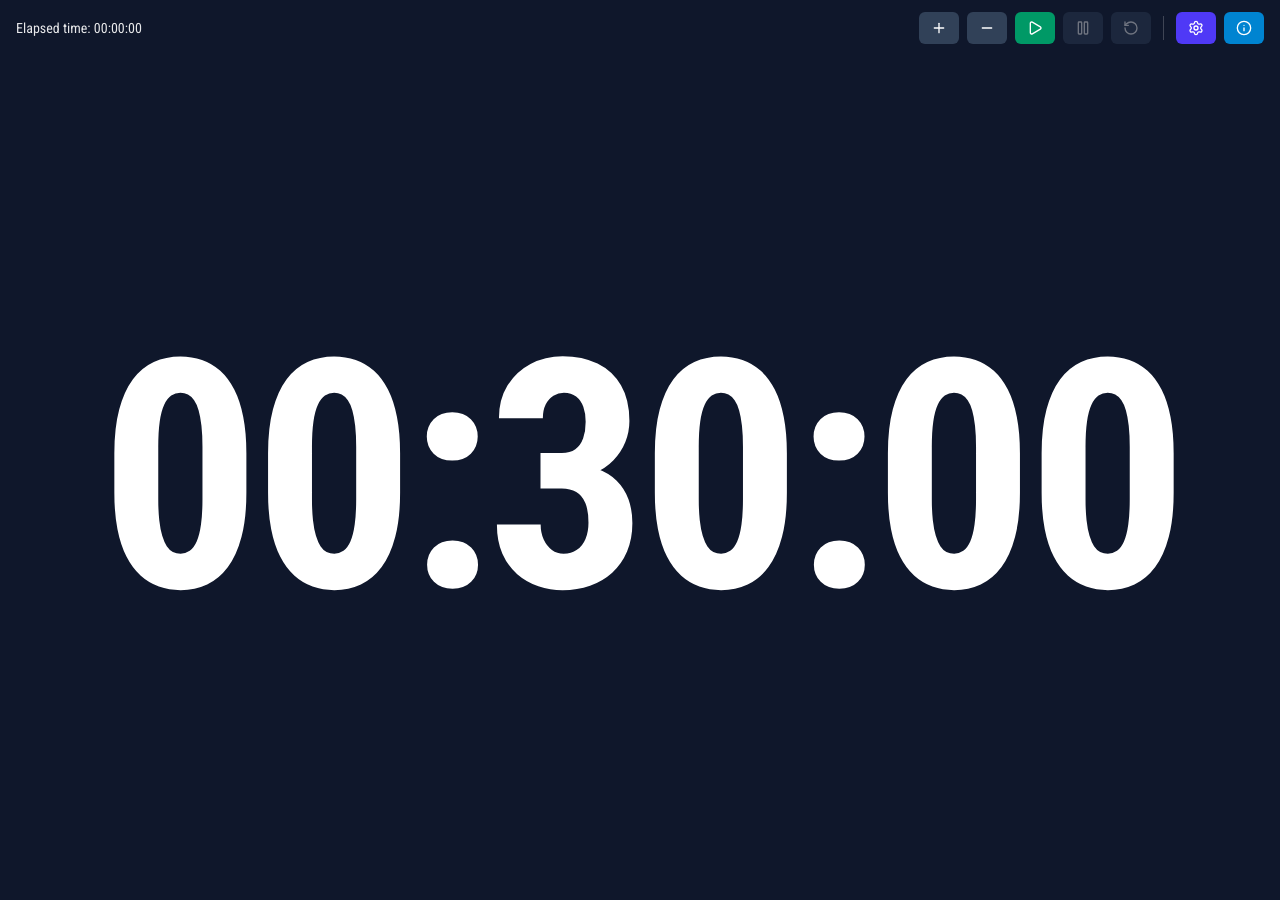
Test: App › opens settings and closes the modal
Step 1. Click the button with test id "settings-button" → (1196,28), box [1176,12,1216,44]
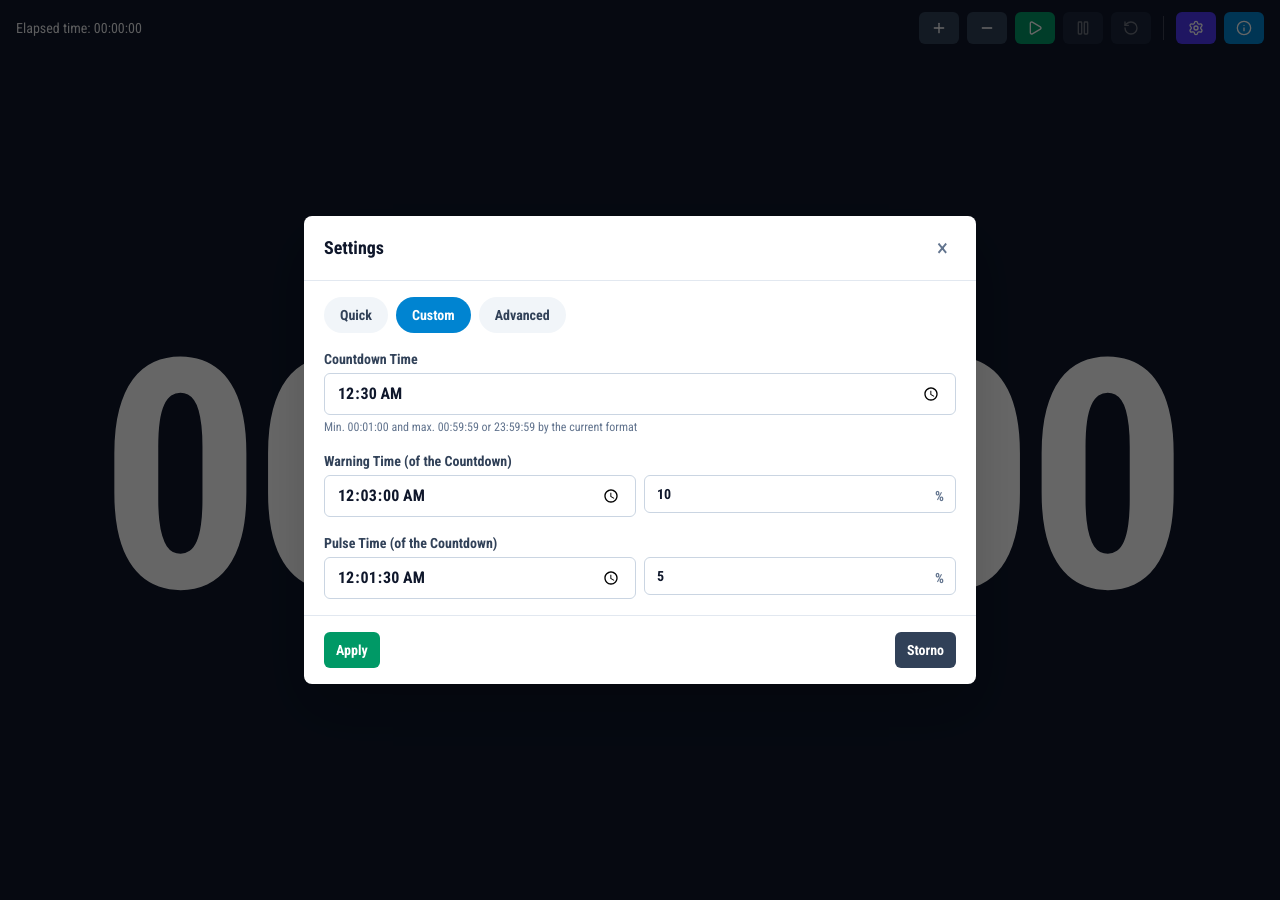
Expected: the dialog is shown, [304,216,976,684]
Step 2. Click the button named "Close" → (942,248), box [929,232,956,264]
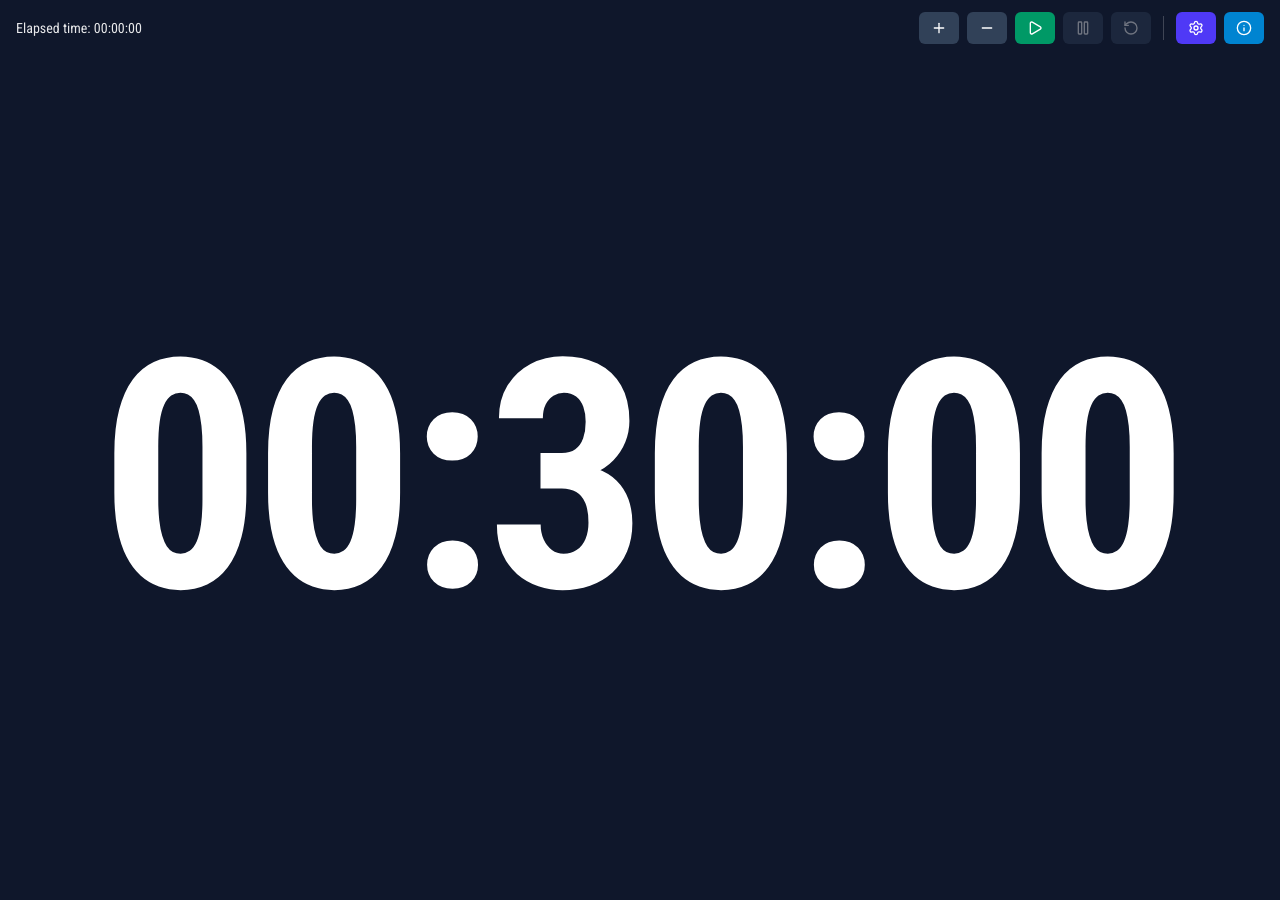
Expected: the dialog is gone
